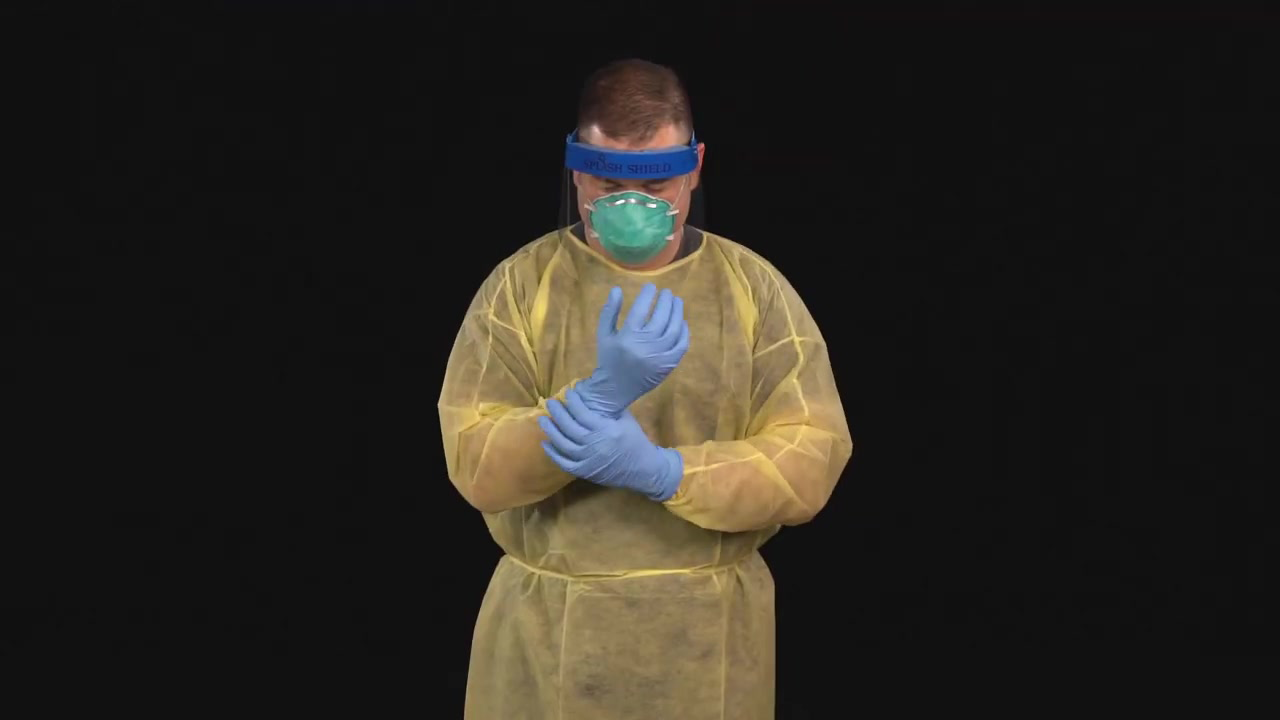Coverall: (423, 222, 847, 720)
Face_Shield: (554, 138, 705, 257)
Gloves: (539, 392, 692, 507), (579, 291, 689, 409)
with_mask: (585, 180, 679, 259)
